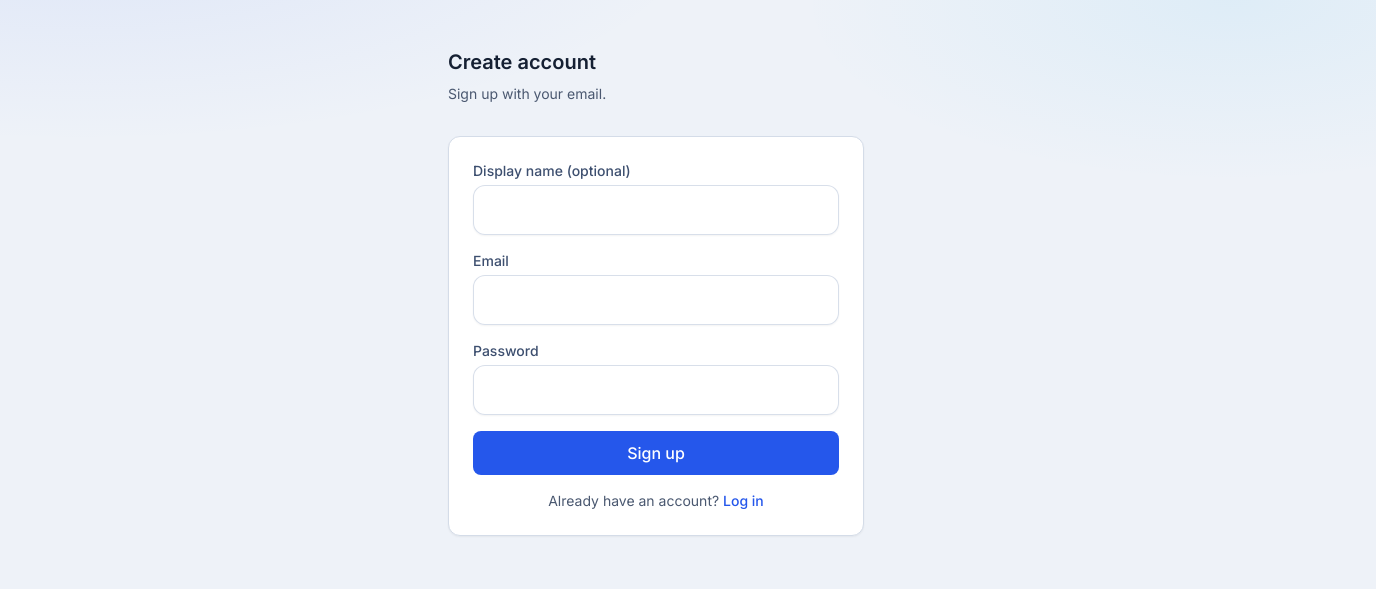
SignupPage › shows duplicate email error from API
Check: the heading "Create account" is shown, box [448, 50, 596, 74]
Type "user@test.dev" into the field labelled "Email" at (656, 300), box [473, 275, 839, 325]
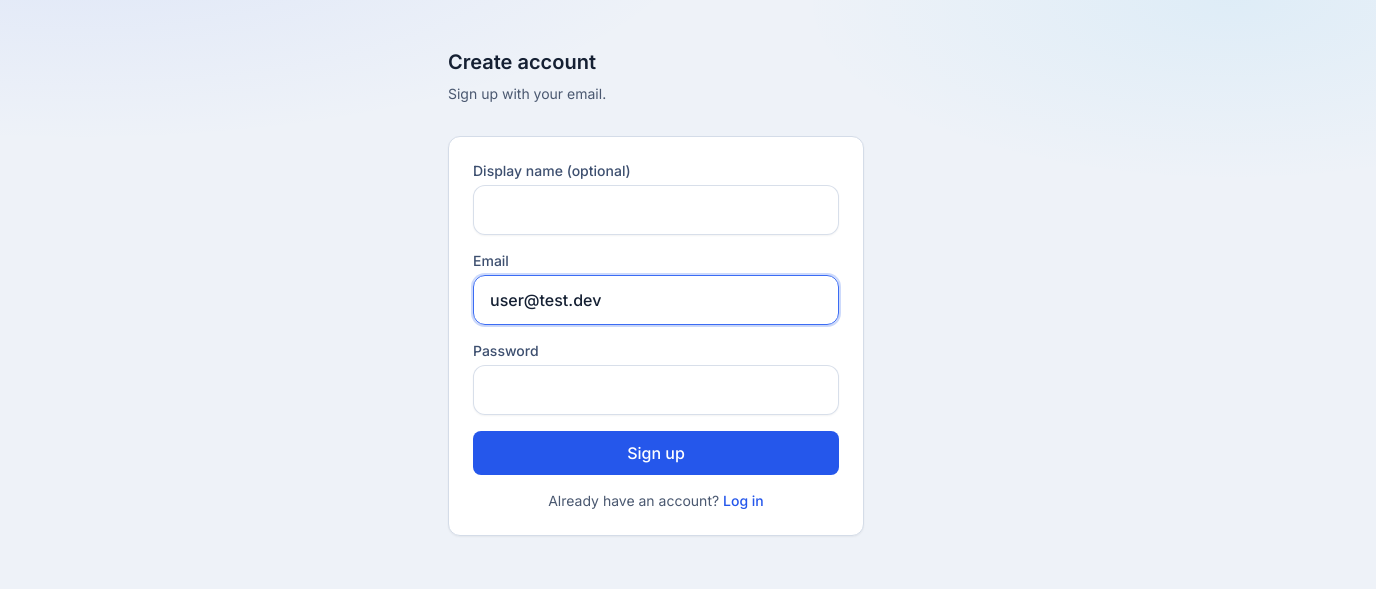
Type "password123" into the password field labelled "Password" at (656, 390), box [473, 365, 839, 415]
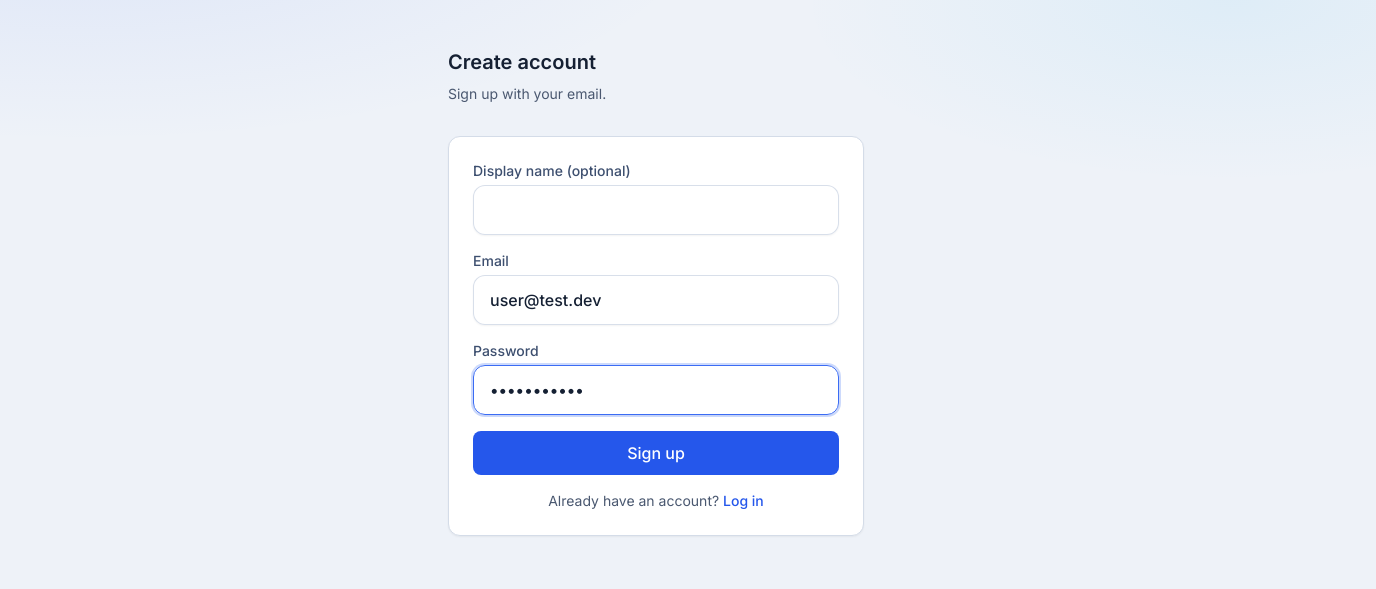
Click the button "Sign up" at (656, 453), box [473, 431, 839, 475]
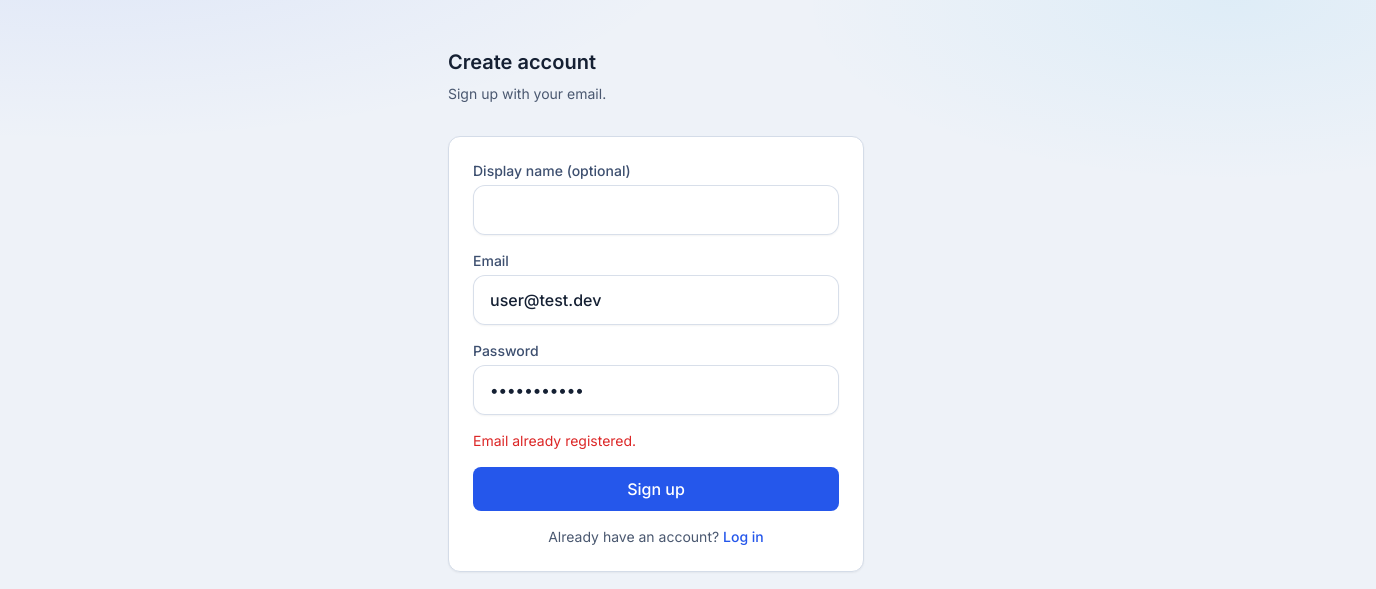
Check: the text "Email already registered." is shown, box [473, 432, 636, 449]
